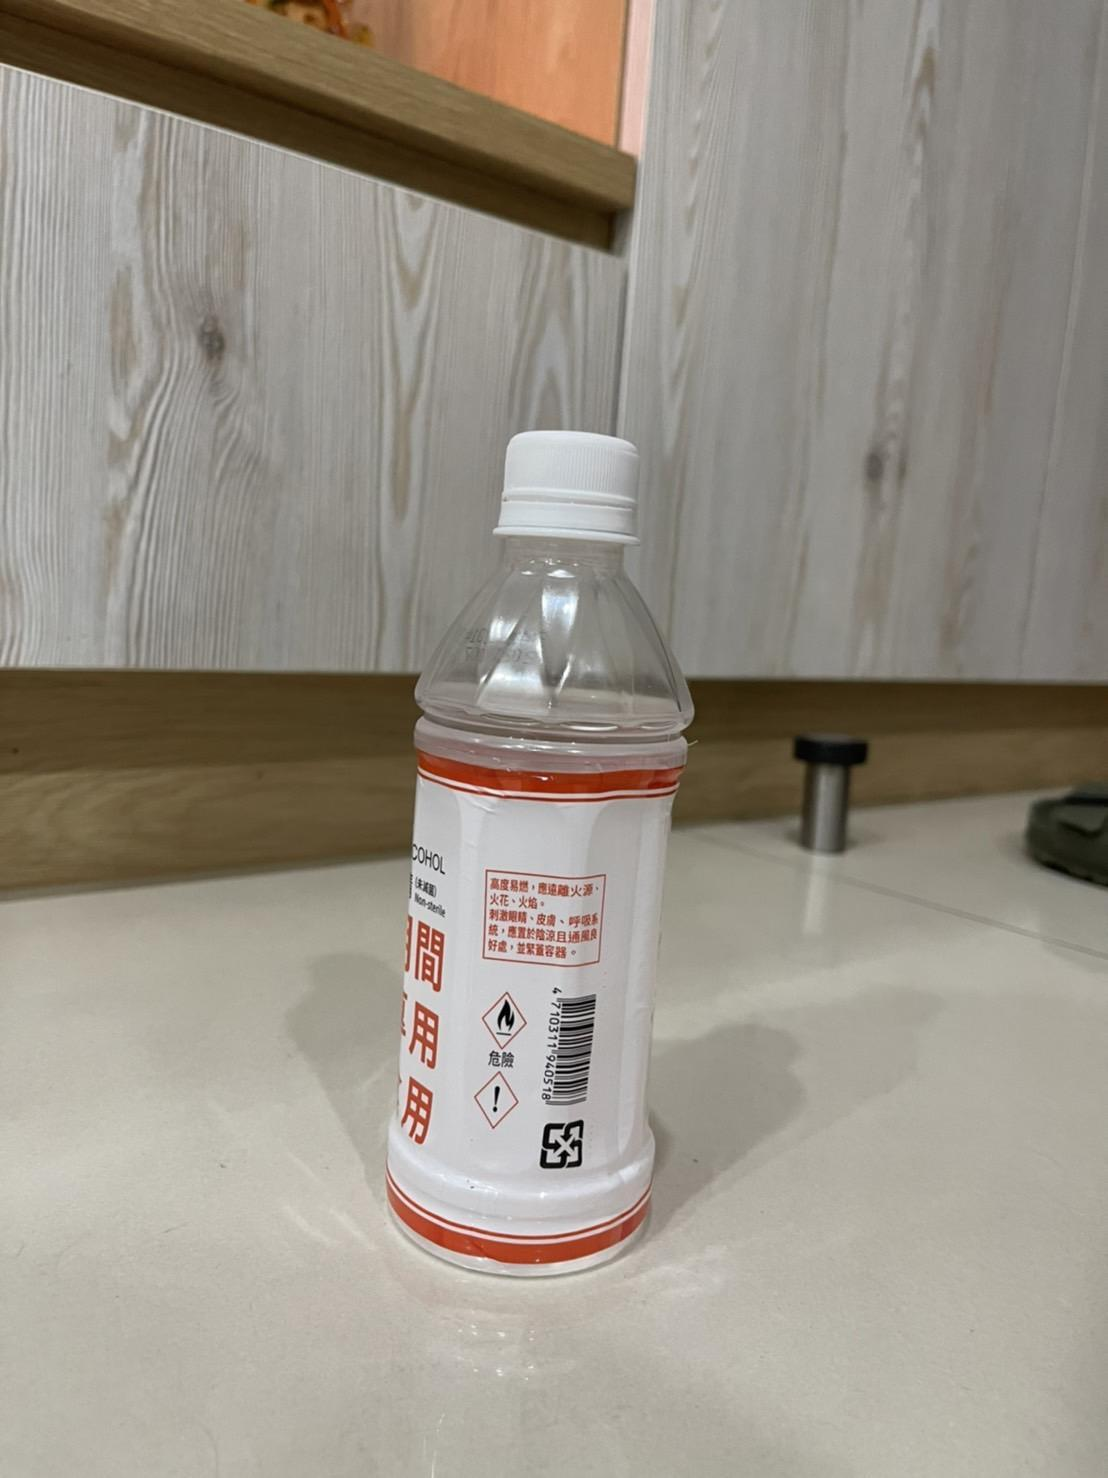bottle: (357, 392, 731, 1302)
